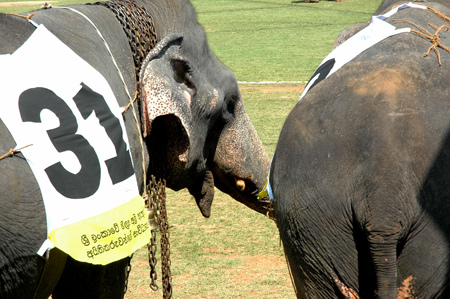elephant: (1, 1, 268, 298), (271, 2, 449, 299)
